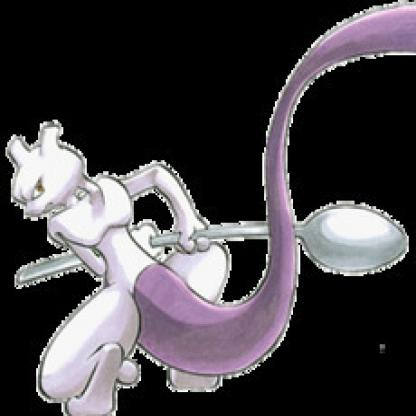Mewtwo: (1, 1, 415, 415)
